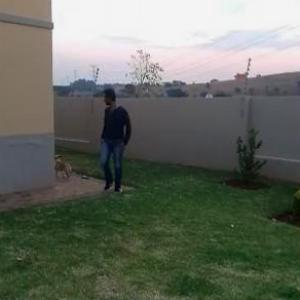follow: (96, 86, 132, 196)
